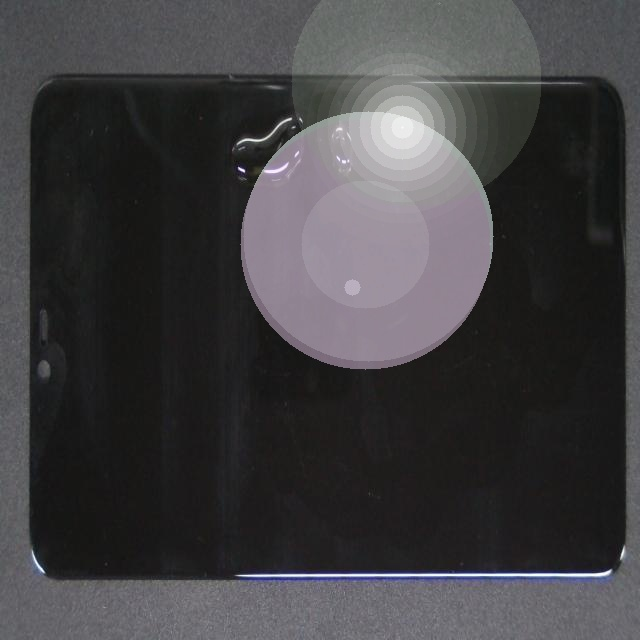oil: (182, 47, 507, 182), (151, 114, 458, 214)
